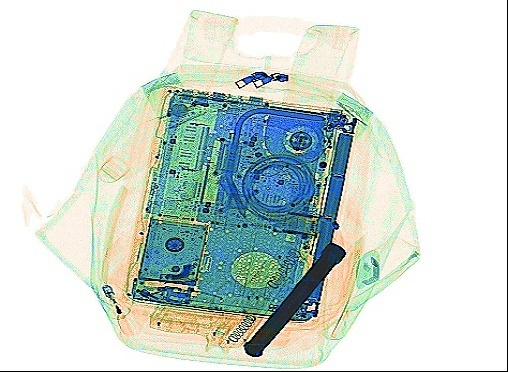lighter: (99, 280, 134, 336)
